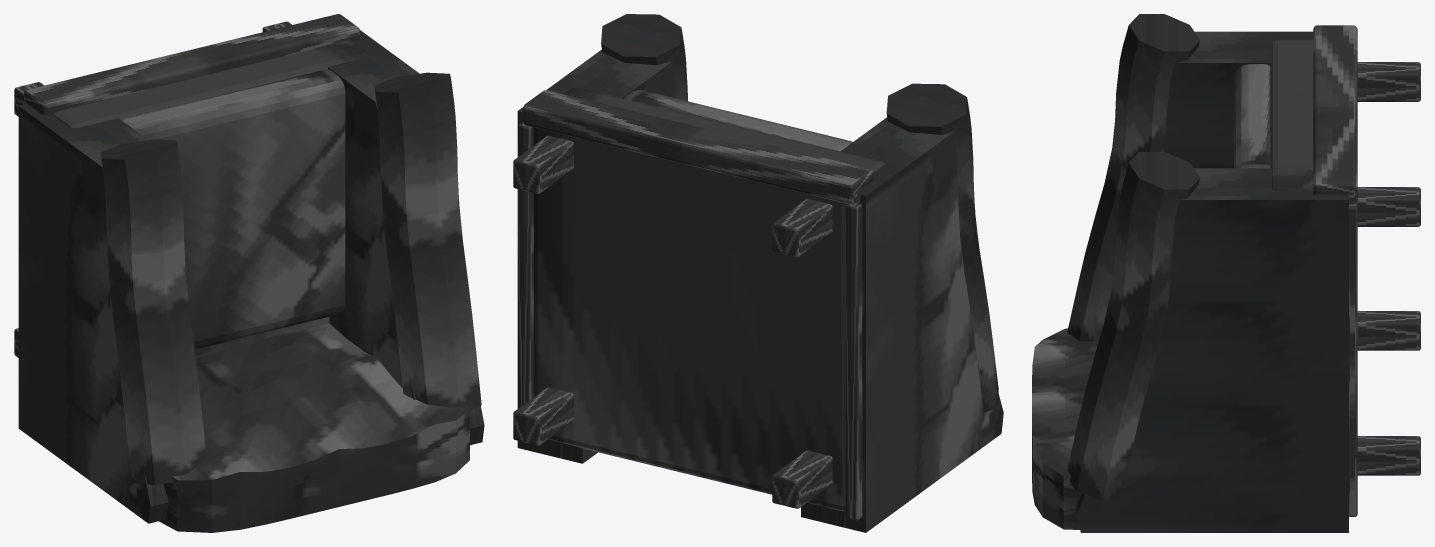
File: pz_chair_seating_indoor_03_victorian_4.obj
3 renders of one model, left to right at view 1: azimuth 30°, elevation 25°; view 2: azimuth 150°, elevation 25°; view 3: azimuth 270°, elevation 25°, orthographic. The views are drawn at different scales.
Visible parts, largest first — view 1: Victorian_4_|_closed_curved_padded_back, Victorian_4_|_rounded_seat_cushion_0, Victorian_4_|_closed_upholstered_side_-1, Victorian_4_|_EDITABLE_rolled_upholstered_arm_-1, Victorian_4_|_EDITABLE_rolled_upholstered_arm_1, Victorian_4_|_closed_upholstered_side_1, Victorian_4_|_native_front_wooden_apron, Victorian_4_|_closed_upholstered_base; view 2: Victorian_4_|_closed_upholstered_base, Victorian_4_|_closed_upholstered_side_-1, Victorian_4_|_native_front_wooden_apron, Victorian_4_|_EDITABLE_rolled_upholstered_arm_-1, Victorian_4_|_wood_side_plinth_-0.443, Victorian_4_|_closed_upholstered_side_1, Victorian_4_|_EDITABLE_rolled_upholstered_arm_1, Victorian_4_|_wood_side_plinth_0.443, Victorian_4_|_rounded_seat_cushion_0, Victorian_4_|_short_wood_foot_(-0.35,_-0.3), Victorian_4_|_short_wood_foot_(0.35,_0.35), Victorian_4_|_short_wood_foot_(-0.35,_0.35) (+1 smaller); view 3: Victorian_4_|_closed_upholstered_side_1, Victorian_4_|_EDITABLE_rolled_upholstered_arm_1, Victorian_4_|_EDITABLE_rolled_upholstered_arm_-1, Victorian_4_|_closed_upholstered_side_-1, Victorian_4_|_closed_curved_padded_back, Victorian_4_|_native_front_wooden_apron, Victorian_4_|_closed_upholstered_base, Victorian_4_|_rounded_seat_cushion_0, Victorian_4_|_wood_side_plinth_0.443, Victorian_4_|_short_wood_foot_(0.35,_0.35), Victorian_4_|_short_wood_foot_(-0.35,_-0.3), Victorian_4_|_short_wood_foot_(-0.35,_0.35) (+1 smaller).
Boxes of the visible parts, x1,y1,x2,y2 form: Victorian_4_|_closed_curved_padded_back: (159, 323, 469, 532); Victorian_4_|_rounded_seat_cushion_0: (121, 69, 345, 349); Victorian_4_|_closed_upholstered_side_-1: (18, 104, 168, 523); Victorian_4_|_EDITABLE_rolled_upholstered_arm_-1: (100, 139, 206, 484); Victorian_4_|_EDITABLE_rolled_upholstered_arm_1: (374, 72, 481, 409); Victorian_4_|_closed_upholstered_side_1: (327, 30, 484, 445); Victorian_4_|_native_front_wooden_apron: (24, 14, 360, 115); Victorian_4_|_closed_upholstered_base: (53, 40, 370, 355); Victorian_4_|_closed_upholstered_base: (533, 87, 884, 511); Victorian_4_|_closed_upholstered_side_-1: (801, 117, 1003, 532); Victorian_4_|_native_front_wooden_apron: (523, 90, 873, 204); Victorian_4_|_EDITABLE_rolled_upholstered_arm_-1: (886, 83, 998, 412); Victorian_4_|_wood_side_plinth_-0.443: (845, 203, 862, 520); Victorian_4_|_closed_upholstered_side_1: (517, 49, 676, 463); Victorian_4_|_EDITABLE_rolled_upholstered_arm_1: (601, 14, 687, 101); Victorian_4_|_wood_side_plinth_0.443: (518, 122, 533, 408); Victorian_4_|_rounded_seat_cushion_0: (624, 90, 852, 151); Victorian_4_|_short_wood_foot_(-0.35,_-0.3): (772, 450, 832, 508); Victorian_4_|_short_wood_foot_(0.35,_0.35): (513, 135, 573, 193); Victorian_4_|_short_wood_foot_(-0.35,_0.35): (772, 198, 832, 257); Victorian_4_|_closed_upholstered_side_1: (1076, 168, 1348, 532); Victorian_4_|_EDITABLE_rolled_upholstered_arm_1: (1067, 152, 1200, 501); Victorian_4_|_EDITABLE_rolled_upholstered_arm_-1: (1067, 14, 1200, 341); Victorian_4_|_closed_upholstered_side_-1: (1164, 31, 1313, 168); Victorian_4_|_closed_curved_padded_back: (1032, 328, 1098, 529); Victorian_4_|_native_front_wooden_apron: (1313, 25, 1357, 203); Victorian_4_|_closed_upholstered_base: (1269, 39, 1313, 191); Victorian_4_|_rounded_seat_cushion_0: (1234, 64, 1270, 168); Victorian_4_|_wood_side_plinth_0.443: (1349, 202, 1357, 516); Victorian_4_|_short_wood_foot_(0.35,_0.35): (1356, 187, 1420, 226); Victorian_4_|_short_wood_foot_(-0.35,_-0.3): (1357, 311, 1420, 350); Victorian_4_|_short_wood_foot_(-0.35,_0.35): (1357, 62, 1420, 101).
Size of the model in its own units: 0.9819 by 0.946 by 0.9206.
Materials: 1 (1 with a texture image).
